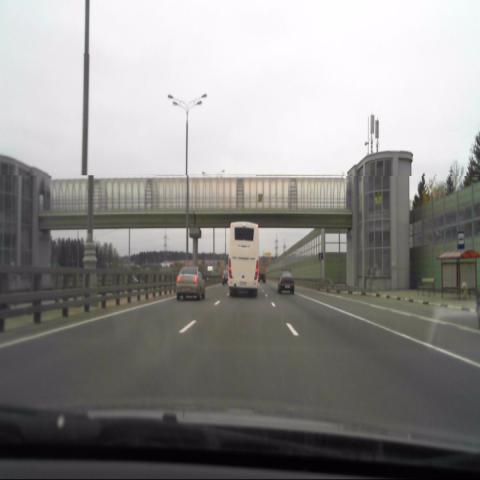5_16: (458, 231, 464, 249)
